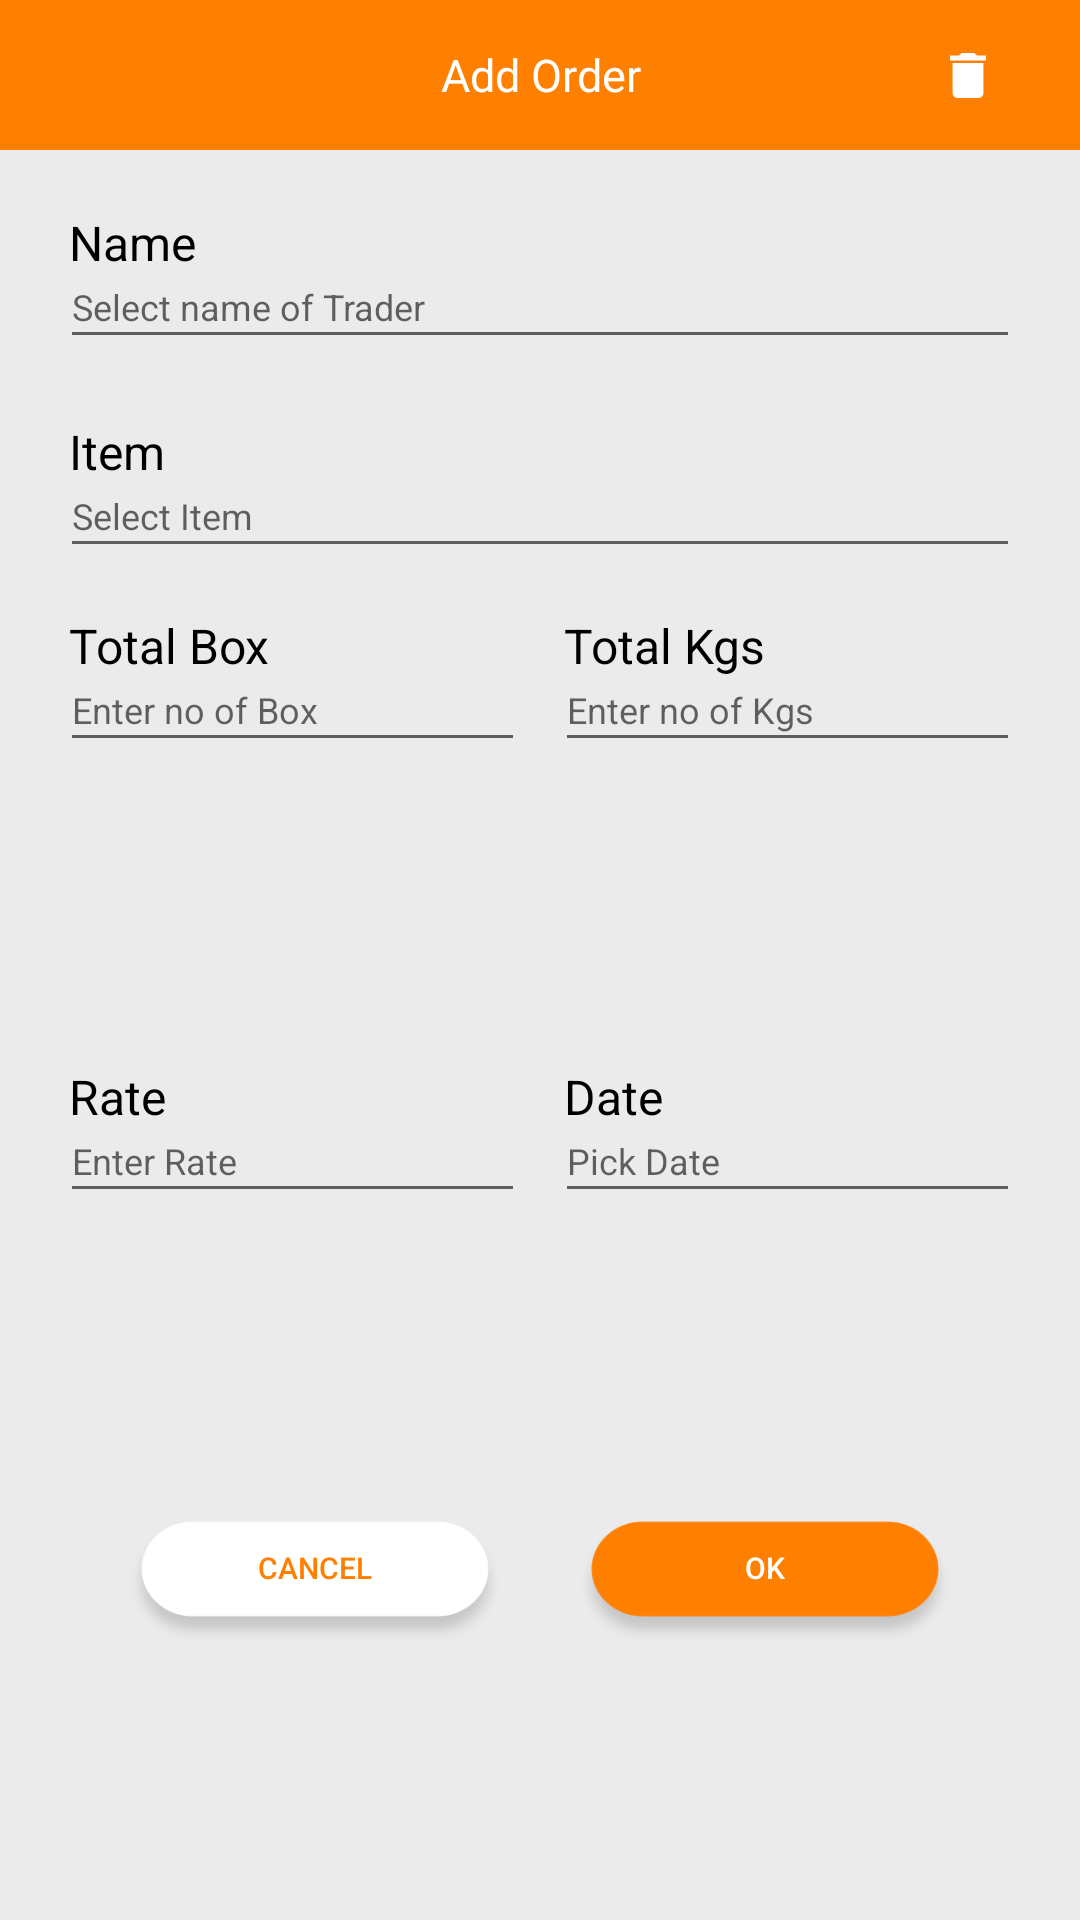

Point at icon controls on the screen. Image size 1080px×1920px, points as point (x, y).
delete: point (968, 75)
